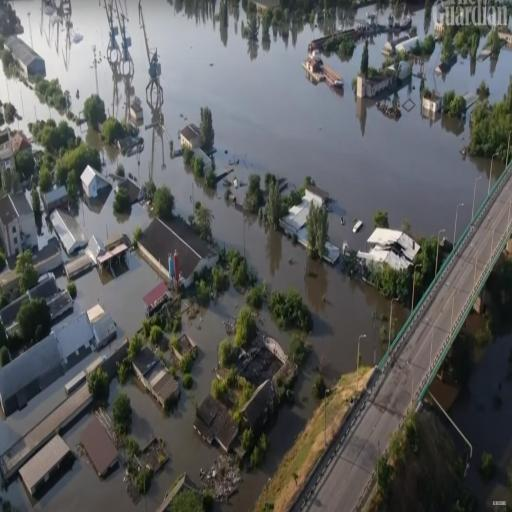flood: (104, 0, 490, 371), (108, 286, 245, 511), (0, 411, 145, 512), (15, 0, 125, 118), (231, 386, 313, 510), (73, 252, 160, 338), (74, 252, 160, 338), (398, 41, 512, 105), (0, 59, 66, 128), (75, 190, 152, 244), (304, 3, 377, 37), (259, 241, 306, 287), (369, 28, 419, 66), (259, 308, 289, 351), (399, 4, 425, 32), (378, 6, 392, 23), (67, 121, 80, 134)
house: (136, 210, 220, 292), (0, 320, 66, 420), (358, 219, 421, 295), (276, 183, 330, 240), (0, 183, 38, 261), (4, 36, 48, 86), (79, 164, 112, 202), (364, 71, 391, 101), (180, 120, 202, 153), (43, 184, 68, 210), (422, 88, 444, 116), (304, 54, 318, 78)
